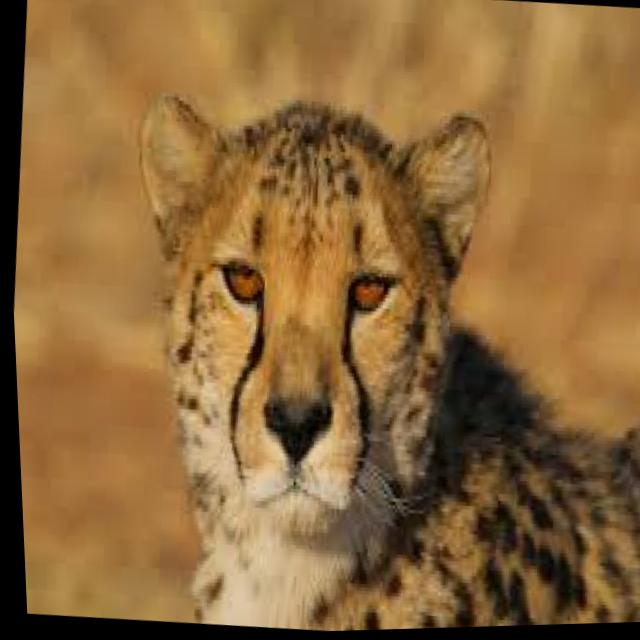dog: (71, 73, 640, 638)
